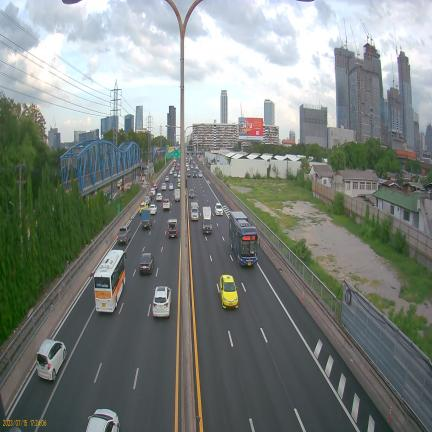bus: (94, 250, 125, 312), (229, 212, 258, 265)
car: (36, 339, 66, 381), (153, 286, 171, 317), (139, 253, 154, 274), (117, 225, 131, 245), (215, 202, 223, 215), (163, 199, 170, 211), (150, 204, 157, 214)
pickup: (117, 226, 131, 245), (142, 212, 143, 217), (149, 210, 149, 212)
taxi: (219, 274, 238, 308), (139, 201, 148, 214), (177, 181, 181, 188)
truck: (202, 206, 212, 234), (141, 208, 152, 230), (168, 219, 178, 237), (190, 202, 199, 221), (174, 188, 180, 201)
